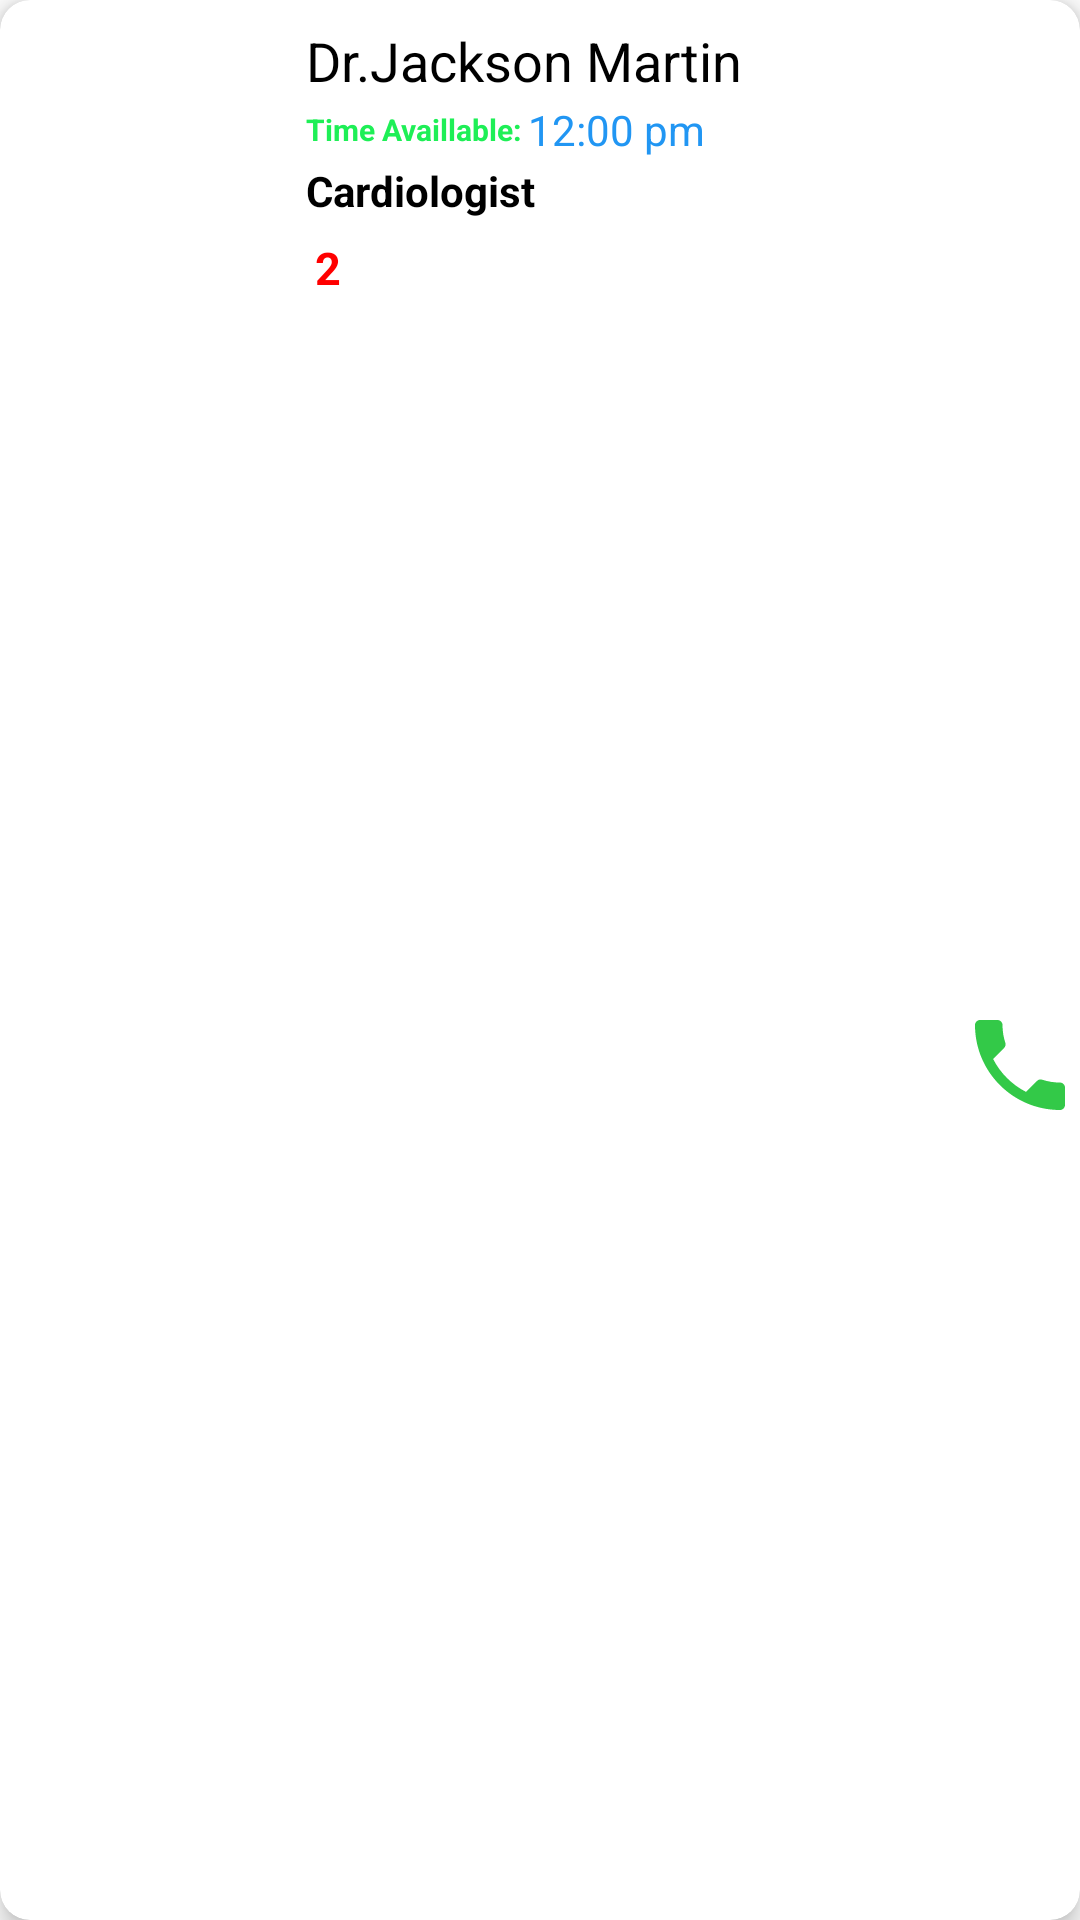

Screen size 1080w x 1920h. Icon name, then its center in pixels as point (x, y):
phone: point (1020, 1065)
